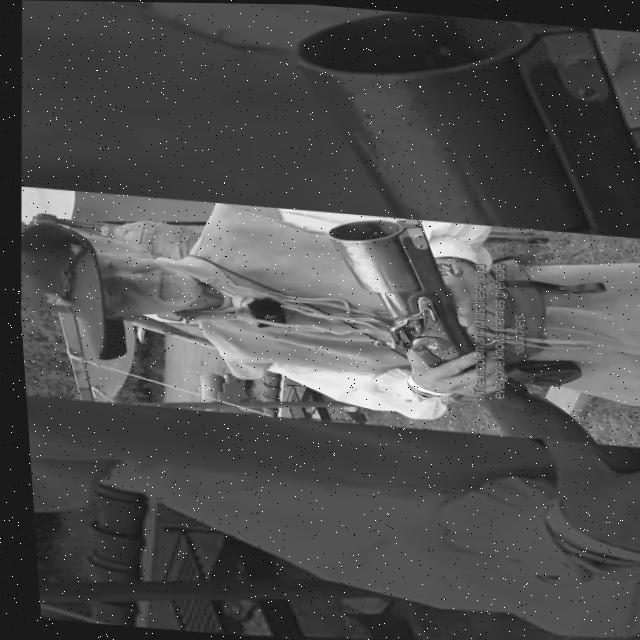rocket: (313, 213, 597, 441)
